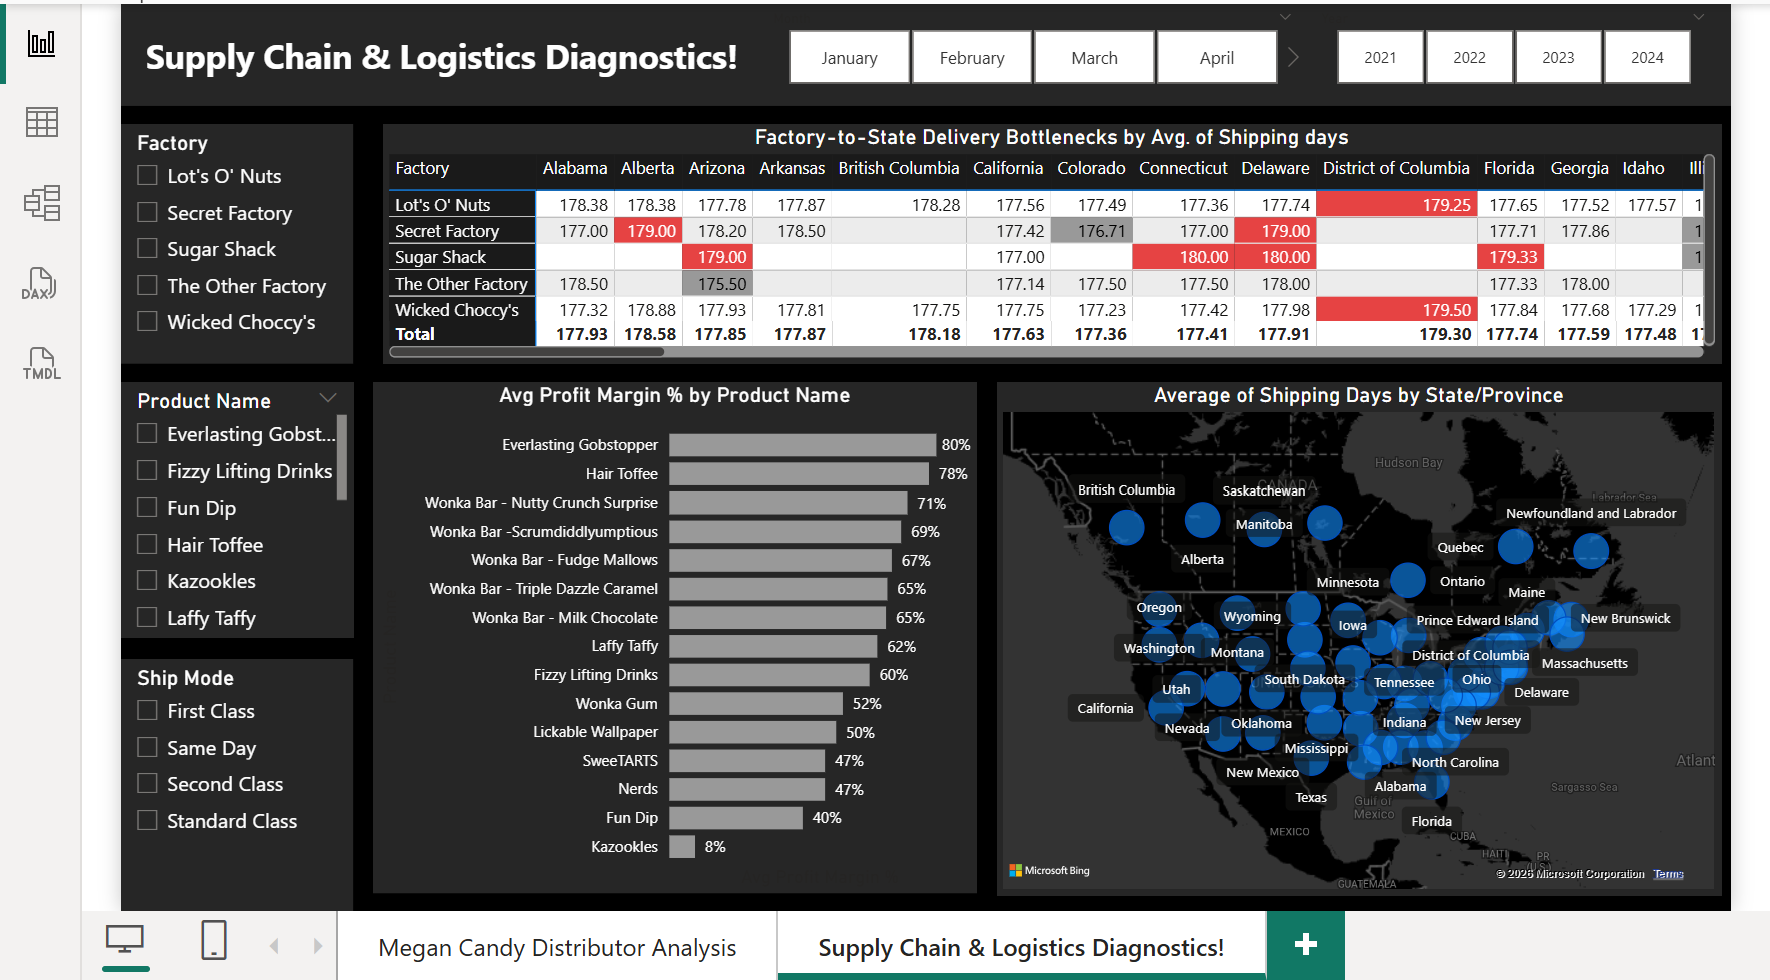

The page's visual inventory and layout, read from the dashboard file:
{"tool":"powerbi","page":{"name":"Supply Chain & Logistics Diagnostics!","canvas":[1280,720],"ordinal":1},"visuals":[{"type":"slicer","fields":{"Values":["Candy_Factories.Factory"]},"box":[0,95.4,184.4,190.7],"z":0},{"type":"textbox","box":[0,0,1279.5,81.1],"z":1000},{"type":"slicer","fields":{"Values":["Master_Calendar.Date.Variation.Date Hierarchy.Year"]},"box":[940.9,0,330.6,69.9],"z":2000},{"type":"slicer","fields":{"Values":["Master_Calendar.Date.Variation.Date Hierarchy.Month"]},"box":[505.6,0,437.4,70.1],"z":3000},{"type":"slicer","fields":{"Values":["Candy_Products.Product Name"]},"box":[0,300.4,184.4,201.9],"z":4000},{"type":"slicer","fields":{"Values":["Candy_Sales.Ship Mode"]},"box":[0,519.7,184.4,200.3],"z":5000},{"type":"pivotTable","title":"Factory-to-State Delivery Bottlenecks by Avg. of Shipping days","fields":{"Rows":["Candy_Factories.Factory"],"Values":["Avg(Candy_Sales.Shipping Days)"],"Columns":["Candy_Sales.State/Province"]},"box":[208.2,95.4,1063.3,190.7],"z":6000},{"type":"clusteredBarChart","fields":{"Category":["Candy_Sales.Product Name"],"Y":["_daxMeasures.Avg Profit Margin %"]},"box":[200.3,300.4,480,405.3],"z":7000},{"type":"map","fields":{"Category":["Candy_Sales.State/Province"],"Size":["Avg(Candy_Sales.Shipping Days)"]},"box":[696.2,300.4,575.4,406.9],"z":8000}]}

Visuals, with their boxes on the page's 1280x720 design canvas (x1, y1, x2, y2). These are canvas units, not pixel positions in the 1770x980 screenshot, which may show the page scaled, cropped or inside an application window:
slicer - Candy_Factories.Factory: bbox=[0, 95, 184, 286]
textbox: bbox=[0, 0, 1280, 81]
slicer - Master_Calendar.Date.Variation.Date Hierarchy.Year: bbox=[941, 0, 1272, 70]
slicer - Master_Calendar.Date.Variation.Date Hierarchy.Month: bbox=[506, 0, 943, 70]
slicer - Candy_Products.Product Name: bbox=[0, 300, 184, 502]
slicer - Candy_Sales.Ship Mode: bbox=[0, 520, 184, 720]
"Factory-to-State Delivery Bottlenecks by Avg. of Shipping days" pivotTable: bbox=[208, 95, 1272, 286]
clusteredBarChart - Candy_Sales.Product Name x _daxMeasures.Avg Profit Margin %: bbox=[200, 300, 680, 706]
map - Candy_Sales.State/Province x Avg(Candy_Sales.Shipping Days): bbox=[696, 300, 1272, 707]
